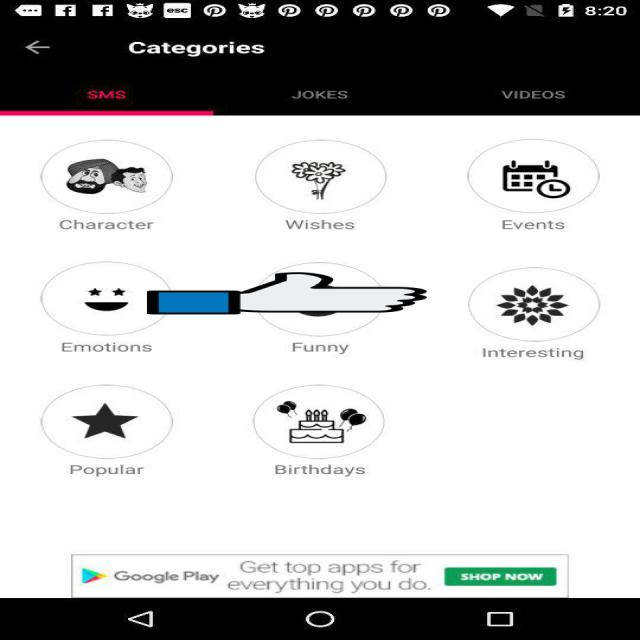privacy zuckering: (147, 272, 427, 316)
